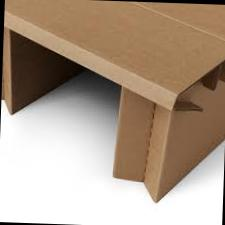cardboard: (0, 0, 225, 208)
